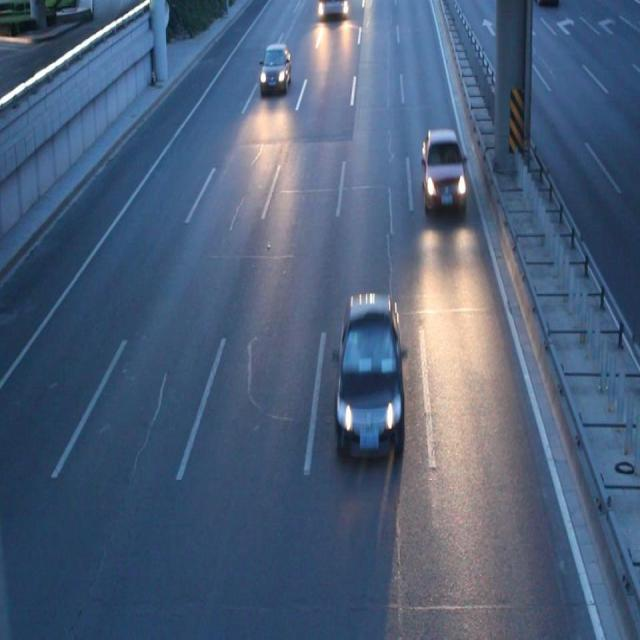car: (333, 292, 405, 459), (420, 129, 466, 215), (260, 42, 291, 94)
